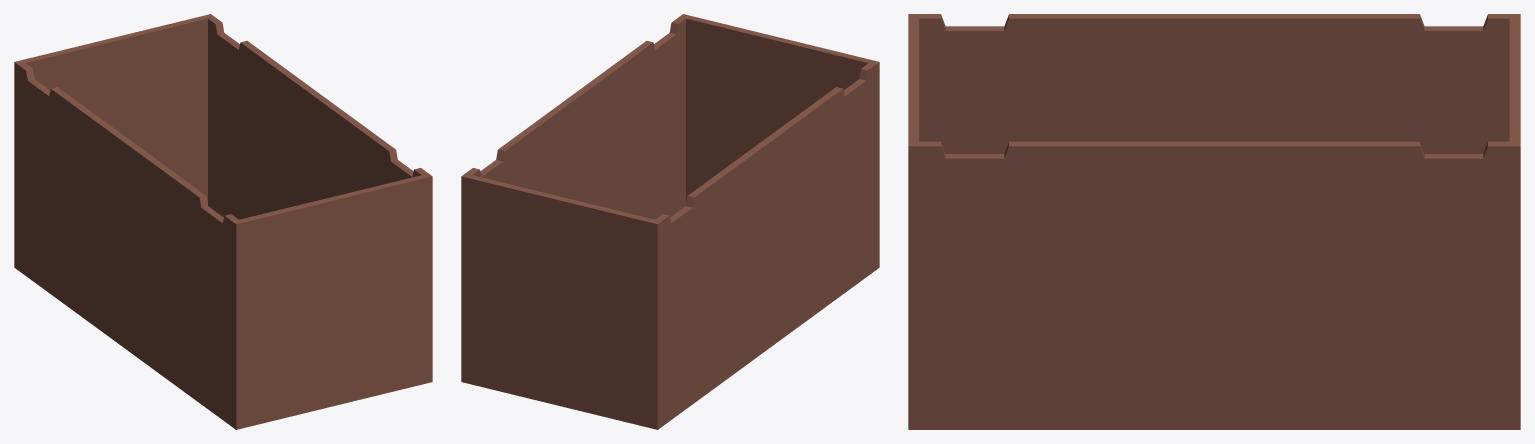
Rendered from Caixote Aberto G Ret.fbx.
3 views of the same model, side by side, from view 1: azimuth 30°, elevation 25°; view 2: azimuth 150°, elevation 25°; view 3: azimuth 270°, elevation 25° (orthographic). The views are drawn at different scales.
Parts seen in each view (by area): view 1: Cubo.041; view 2: Cubo.041; view 3: Cubo.041.
Part boxes in pixels (x1,y1,x2,y2): Cubo.041: (14,14,432,429); Cubo.041: (461,14,879,429); Cubo.041: (908,14,1520,429).
Bounding box in the file's own units: 200 × 200 × 391.
